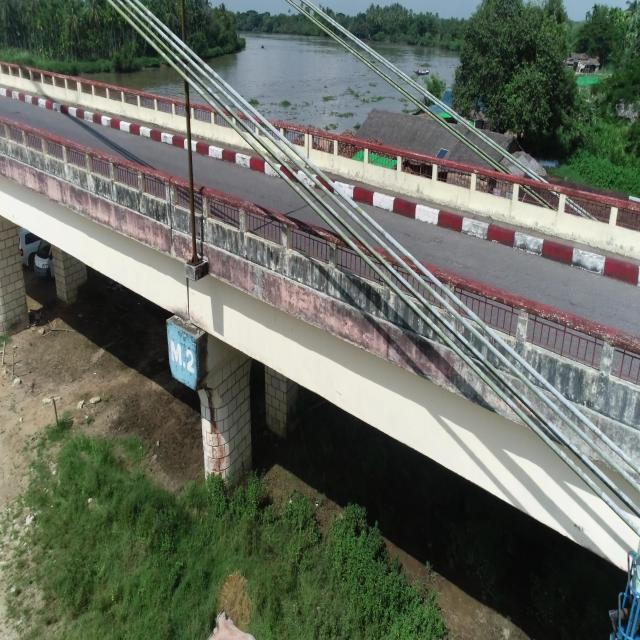crack: (564, 456, 566, 460), (418, 262, 419, 264)
